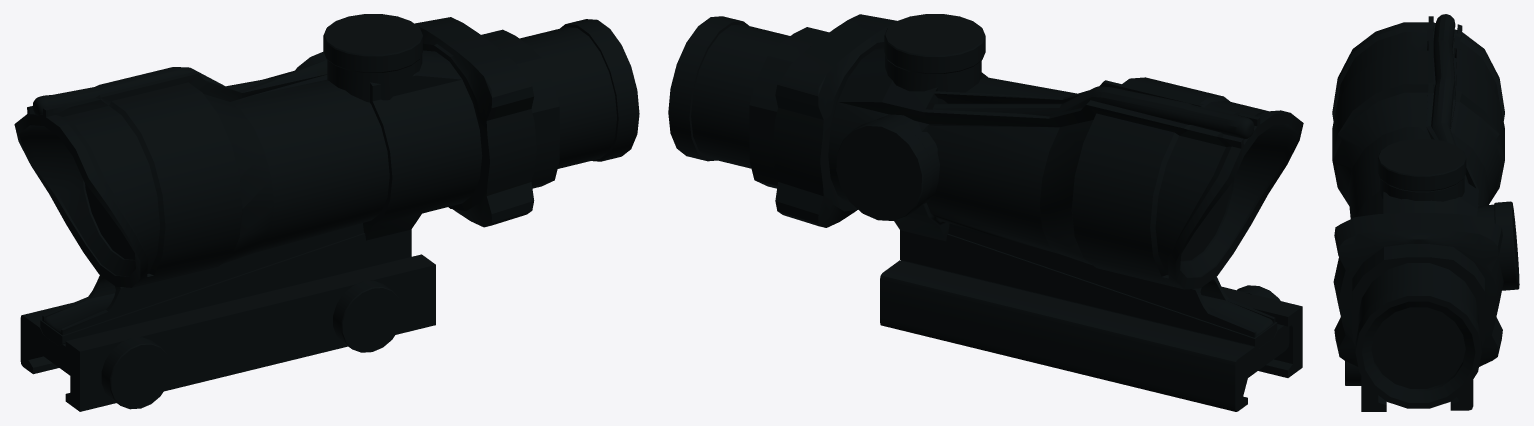
The picture shows the model from 3 angles, left to right: view 1: azimuth 30°, elevation 25°; view 2: azimuth 150°, elevation 25°; view 3: azimuth 270°, elevation 25°; orthographic projection. The views are drawn at different scales.
Parts seen in each view (by area): view 1: 4x Scope; view 2: 4x Scope; view 3: 4x Scope.
Part boxes in pixels (x1,y1,x2,y2): 4x Scope: [14, 14, 639, 411]; 4x Scope: [668, 14, 1303, 411]; 4x Scope: [1332, 14, 1519, 411].
Bounding box in the file's own units: 122 × 58.95 × 40.04.
Materials: 1 (1 with a texture image).
